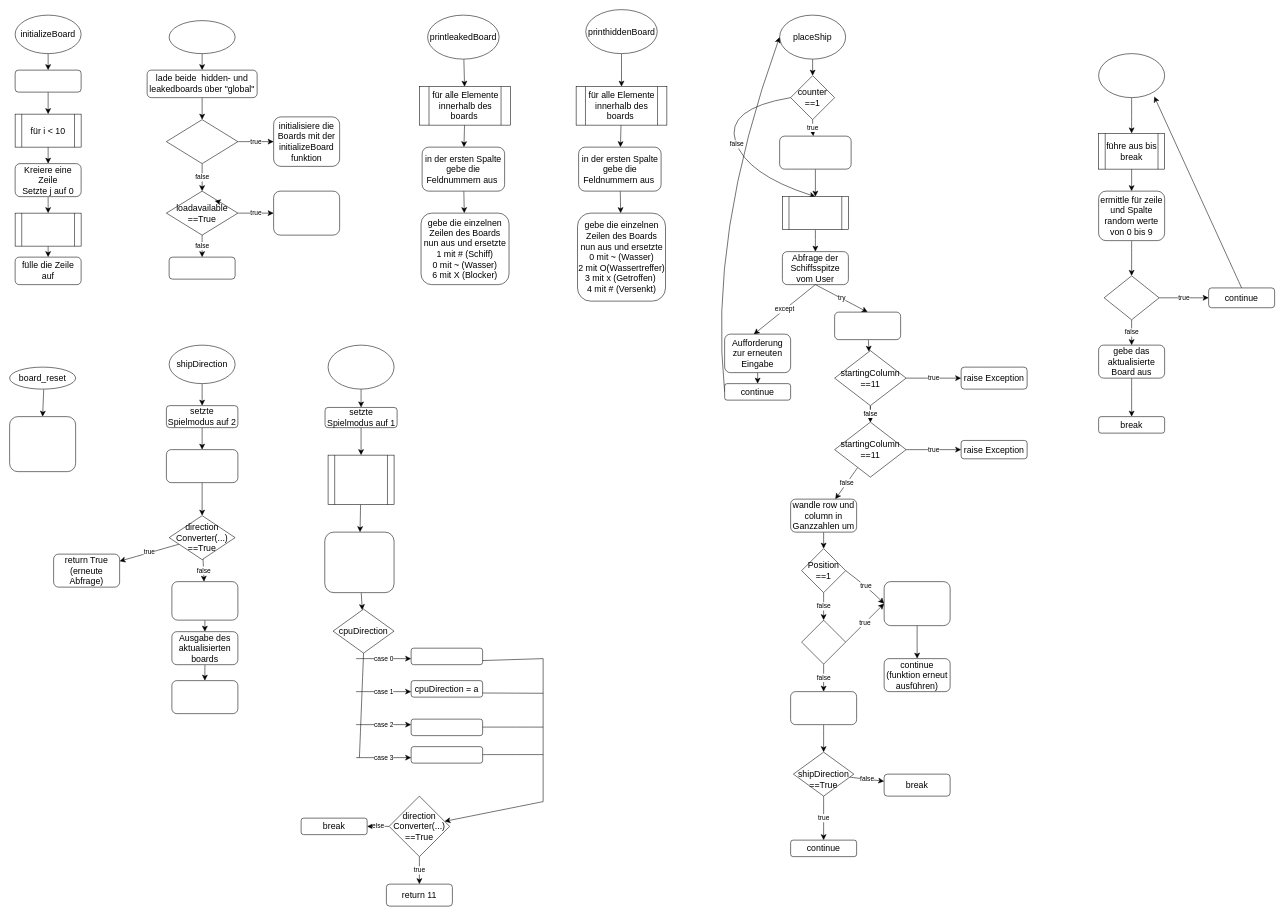
The diagram is 1284 pixels wide and 916 high, and some of its shapes have lost their labels. The box of each missing label's shape, as (x1, y1, x2, y2) in pixels:
Ausgabe, wo die Spitze des Schiffes liegt: (790, 691, 857, 725)
boardloader: (169, 20, 235, 54)
Console leeren, bestätigung Plazierung,: (171, 581, 238, 620)
cpuDirection = d: (411, 746, 483, 763)
cpuDirection = s: (411, 719, 483, 736)
cpuDirection = w: (411, 648, 483, 665)
cpuPlaceShip: (1098, 53, 1165, 98)
cpuShip Direction == True: (1104, 275, 1159, 320)
cpuShipDirection: (328, 345, 394, 389)
ermittle startingColumn über function: (834, 312, 901, 340)
Fehlermeldung: (169, 257, 235, 279)
frage vom User die Richtung des Schiffes ab: (166, 449, 238, 483)
für j < 10: (15, 213, 81, 246)
generiere eine zufällige Zahl von 0 bis 3 und speiche diese in cpuDirection: (324, 532, 394, 593)
i und j auf 0 stetzen: (15, 70, 81, 92)
Lade die gespeicherten Boards aus der json Datei: (273, 191, 340, 235)
loadavailable ==False: (166, 119, 238, 164)
Position ==6: (801, 620, 846, 664)
retrun False (keine erneute Eingabe): (171, 680, 238, 714)
rufe printleakedBoard auf: (779, 136, 851, 169)
Solange bis break kommt mach: (782, 196, 848, 230)
Warnung, dass man dort kein Schiff platzieren kann: (884, 581, 950, 626)
wiederhole so lange bis break oder return: (328, 455, 394, 505)
überschreibe die in der json gespeicherten Boards mit leeren Boards: (9, 416, 76, 472)
